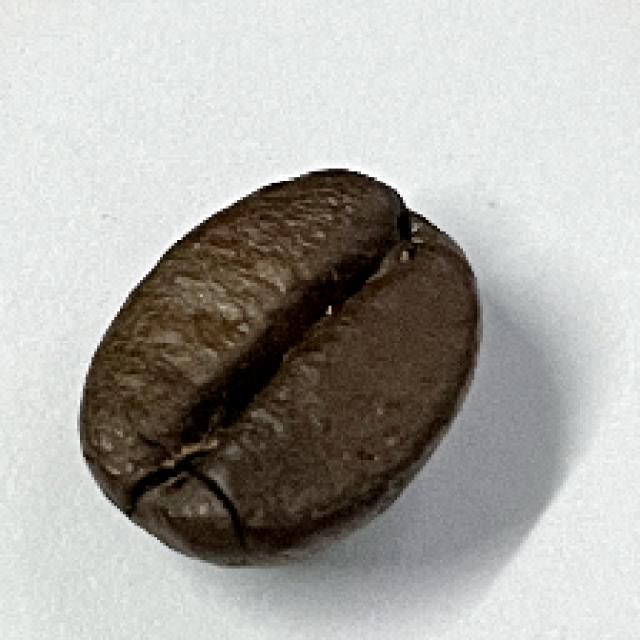bean: (75, 164, 487, 572)
